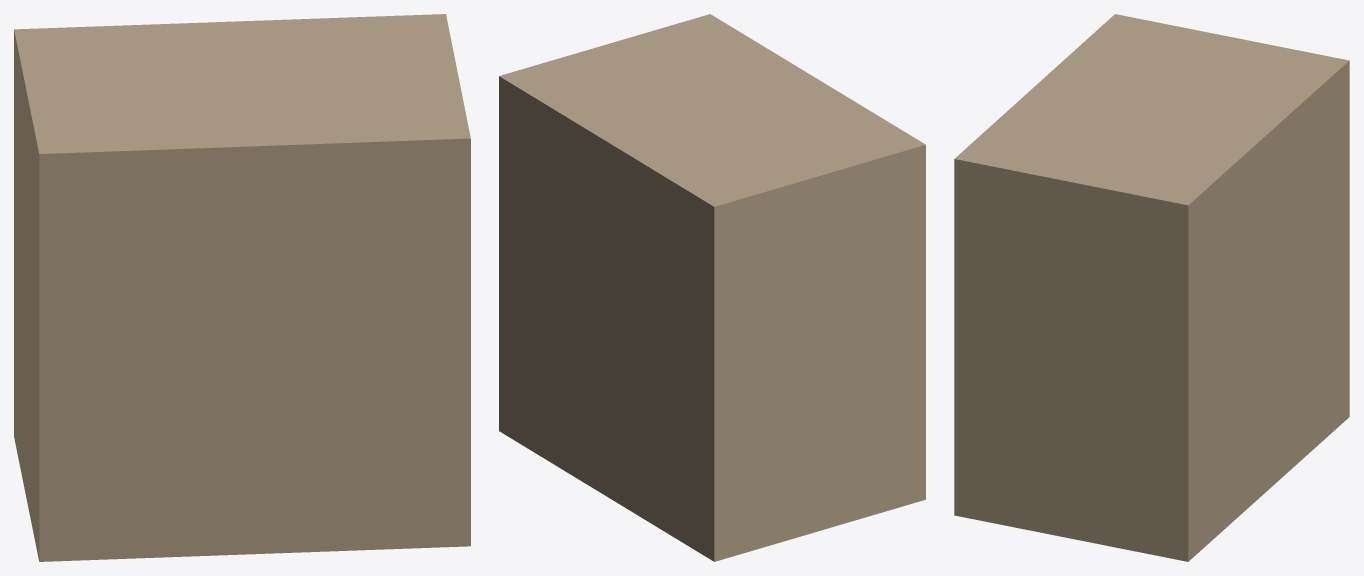
File: bld_99519818.dae
3 renders of one model, left to right at view 1: azimuth 30°, elevation 25°; view 2: azimuth 150°, elevation 25°; view 3: azimuth 270°, elevation 25°, orthographic. The views are drawn at different scales.
Visible parts, largest first — view 1: bld_99519818; view 2: bld_99519818; view 3: bld_99519818.
Boxes of the visible parts, bbox=[...] form: bld_99519818: bbox=[14, 14, 470, 561]; bld_99519818: bbox=[499, 14, 925, 561]; bld_99519818: bbox=[954, 14, 1349, 561].
Size of the model in its own units: 9.21 by 8.04 by 8.
